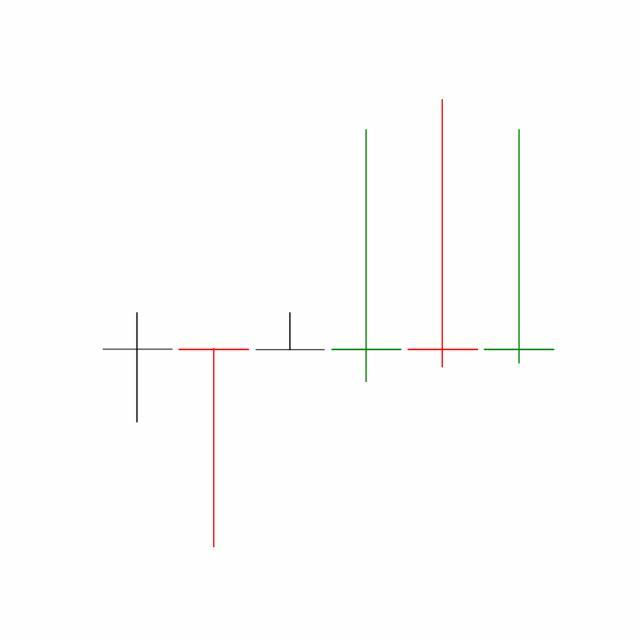Gravestone Doji: (404, 96, 482, 371)
